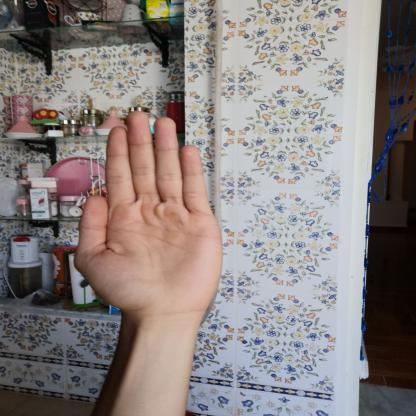SEEN: (63, 102, 232, 327)
